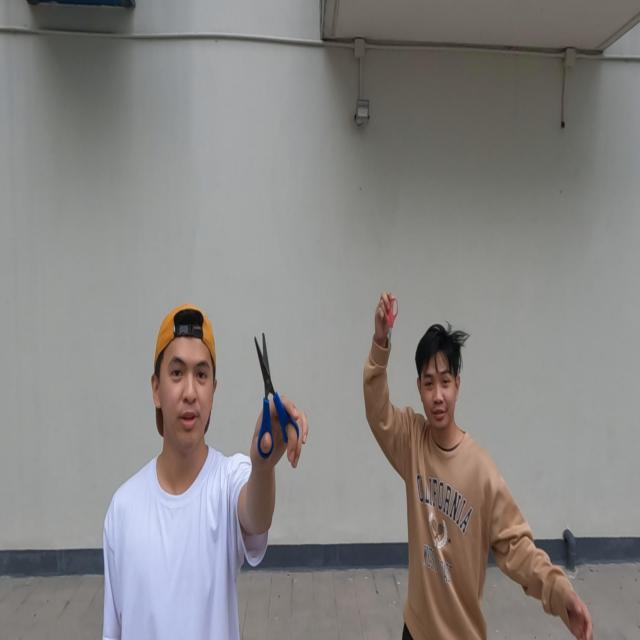scissor: (253, 331, 300, 462), (384, 295, 399, 363)
